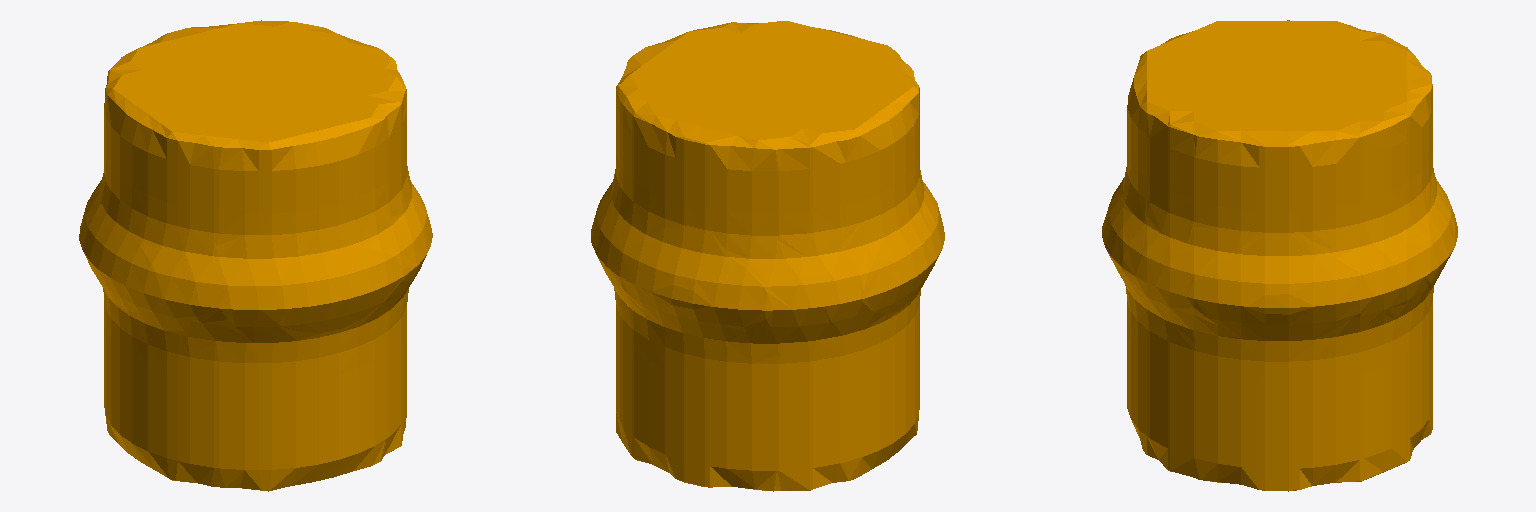
URDF robot description (cylinder_../../meshes/cylinders/cylinder_74.stl):
<?xml version="1.0" encoding="utf-8"?>  <robot name="cylinder_../../meshes/cylinders/cylinder_74.stl">   <link name="cylinder_../../meshes/cylinders/cylinder_74.stl">     <visual>       <geometry>         <mesh filename="../meshes/cylinders/cylinder_74.stl" scale="1 1 1"/>       </geometry>     </visual>     <collision>       <geometry>         <mesh filename="../meshes/cylinders/cylinder_74.stl" scale="1 1 1"/>       </geometry>     </collision>     <inertial>        <origin         xyz="0 0 0"         rpy="0 0 0" />       <mass value="0.2789705597115798"/>       <origin rpy="0 0 0" xyz="0 0 0"/>       <inertia ixx="0.00022287270872350584" ixy="-2.597678016171065e-08" ixz="5.142106299984909e-08" iyy="0.0002228732910819831" iyz="3.71307662510514e-08" izz="0.00015319482309491034"/>     </inertial>   </link>  </robot>

--- Render facts (derived) ---
The picture shows the robot from 3 angles, left to right: view 1: azimuth 30°, elevation 25°; view 2: azimuth 150°, elevation 25°; view 3: azimuth 270°, elevation 25°; orthographic projection.
Model cylinder_../../meshes/cylinders/cylinder_74.stl with 1 links and 0 joints (none), rooted at cylinder_../../meshes/cylinders/cylinder_74.stl, posed every joint at zero.
Links seen in each view (by area): view 1: cylinder_../../meshes/cylinders/cylinder_74.stl; view 2: cylinder_../../meshes/cylinders/cylinder_74.stl; view 3: cylinder_../../meshes/cylinders/cylinder_74.stl.
Link boxes in pixels (x1,y1,x2,y2): cylinder_../../meshes/cylinders/cylinder_74.stl: [79, 20, 432, 491]; cylinder_../../meshes/cylinders/cylinder_74.stl: [591, 21, 944, 491]; cylinder_../../meshes/cylinders/cylinder_74.stl: [1102, 20, 1457, 491].
Bounding box of the posed robot: 0.075 × 0.075 × 0.0817 m (x, y, z).
Meshes: 1 distinct files referenced, 1 mesh visuals loaded (1 binary STL).